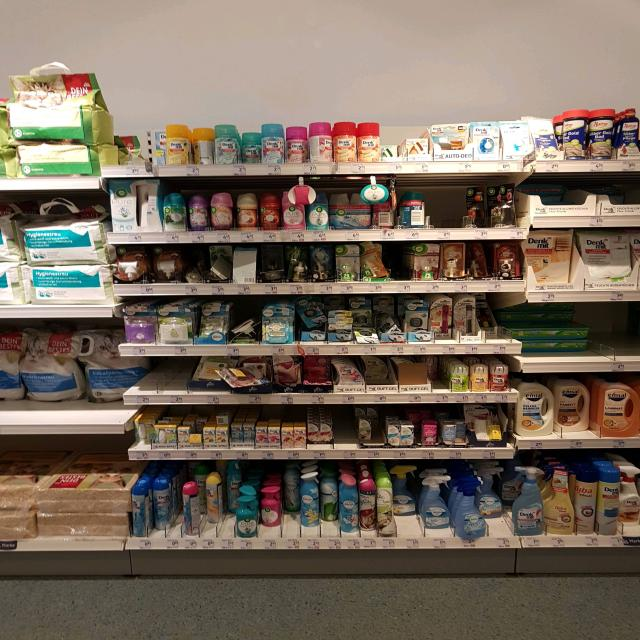unorganised: (510, 324, 591, 359), (555, 373, 592, 437), (424, 473, 453, 530), (479, 466, 507, 520), (374, 473, 396, 539), (178, 480, 203, 536), (392, 463, 417, 518), (299, 470, 321, 532), (129, 483, 151, 539), (295, 297, 328, 334), (455, 292, 480, 340), (378, 297, 404, 343), (151, 477, 173, 531), (320, 465, 338, 531), (306, 120, 333, 163), (352, 299, 379, 342), (399, 189, 428, 229), (223, 360, 261, 390), (203, 472, 224, 526), (430, 295, 454, 341), (204, 243, 232, 282), (282, 461, 299, 524), (359, 243, 387, 280), (465, 242, 493, 278), (408, 298, 430, 342), (191, 124, 214, 165), (223, 465, 241, 515), (260, 484, 279, 529), (241, 130, 262, 164), (364, 356, 390, 383), (308, 421, 335, 447), (357, 416, 378, 443), (477, 294, 493, 327), (135, 419, 151, 442), (380, 143, 399, 159), (427, 355, 439, 378), (188, 430, 203, 448), (456, 421, 467, 442), (216, 412, 230, 426)
